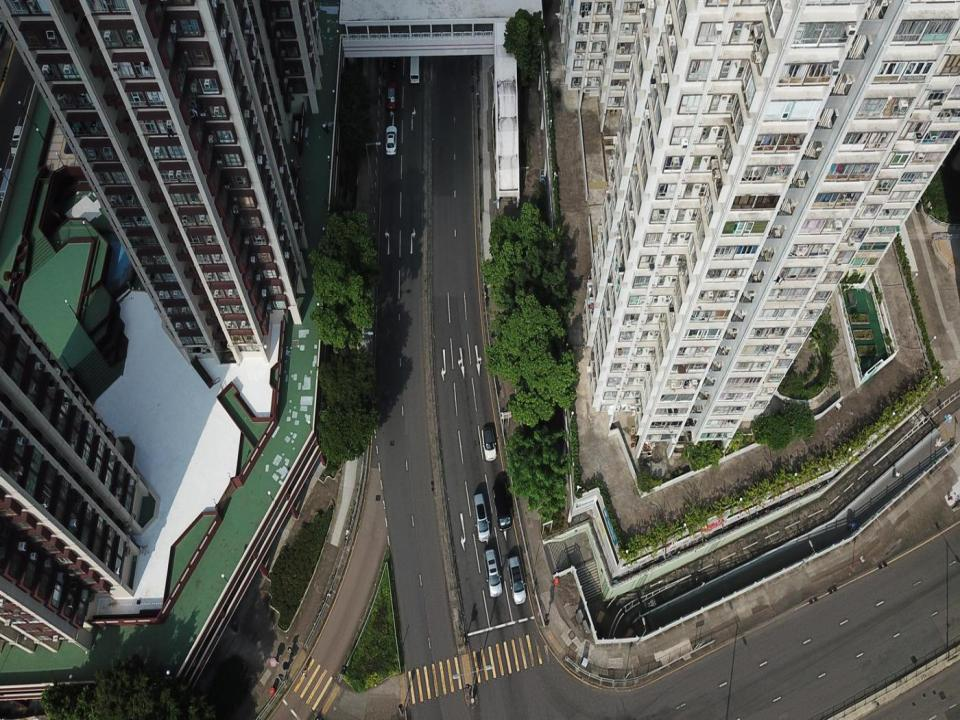bus: (409, 52, 421, 84)
car: (482, 547, 503, 598), (506, 555, 526, 604), (493, 484, 512, 532), (472, 492, 490, 542), (481, 426, 497, 461), (385, 80, 398, 110), (385, 126, 397, 156)
